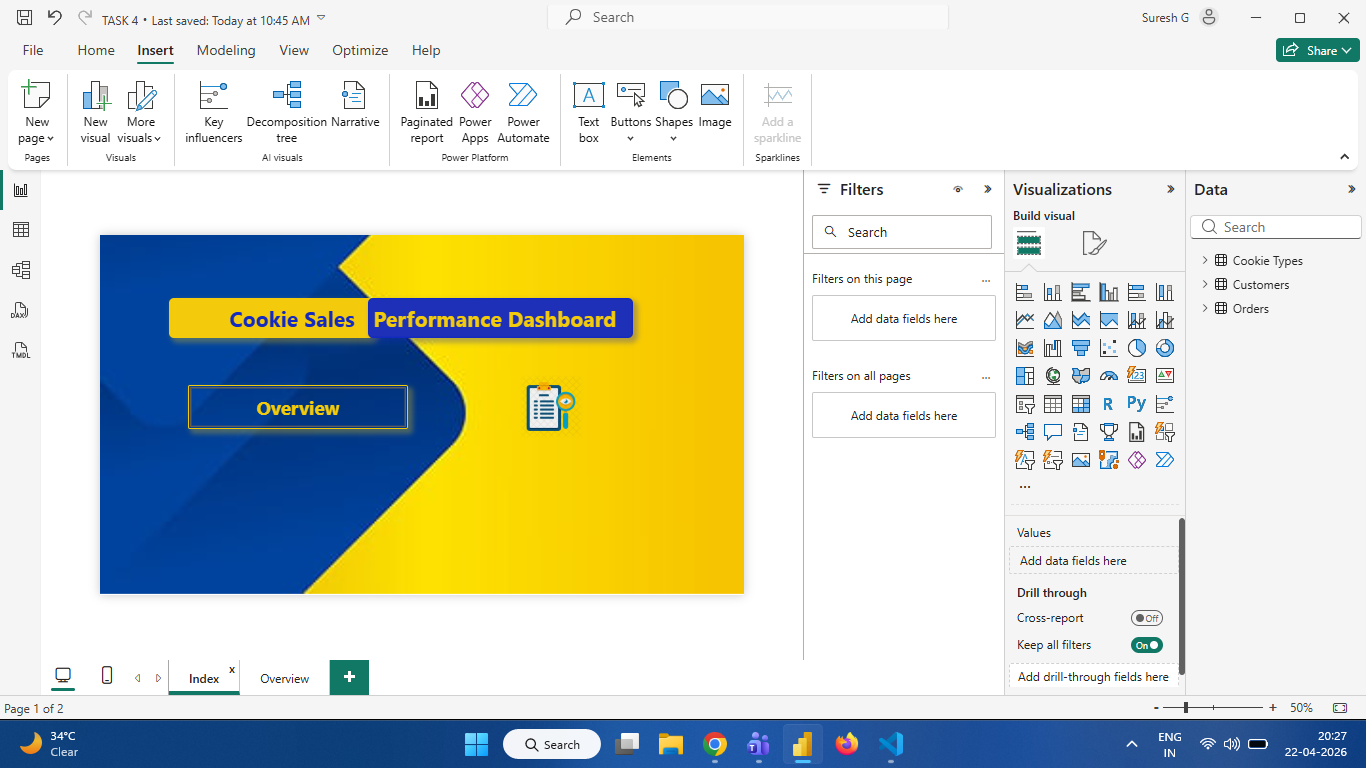

Layout of this report page (visuals, bound fields, positions):
{"tool":"powerbi","page":{"name":"Index","canvas":[1289,720],"ordinal":0},"visuals":[{"type":"textbox","box":[138.3,126.7,410,80],"z":0},{"type":"textbox","box":[536.7,126.7,530,80],"z":1000},{"type":"actionButton","box":[175,300,440,88.3],"z":2000},{"type":"image","box":[754,278,296,130],"z":2001}]}

Visuals, with their boxes on the page's 1289x720 design canvas (x1, y1, x2, y2). These are canvas units, not pixel positions in the 1366x768 screenshot, which may show the page scaled, cropped or inside an application window:
textbox: <bbox>138, 127, 548, 207</bbox>
textbox: <bbox>537, 127, 1067, 207</bbox>
actionButton: <bbox>175, 300, 615, 388</bbox>
image: <bbox>754, 278, 1050, 408</bbox>
